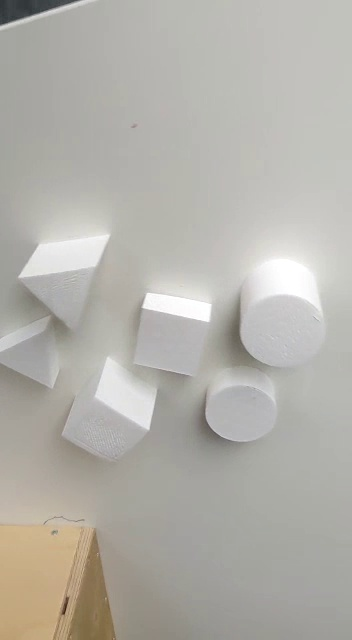Clyinder_short: (199, 363, 279, 444)
Cube: (59, 355, 160, 467)
Cube_short: (130, 285, 221, 381)
Cylinder: (236, 253, 326, 370)
Triangle: (17, 231, 117, 339)
Triangle_short: (1, 315, 70, 393)
